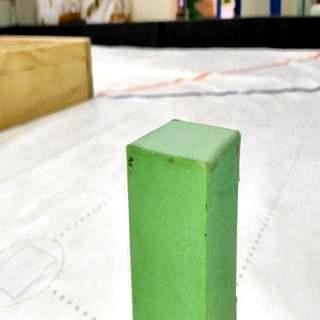greenbox: (125, 117, 242, 320)
